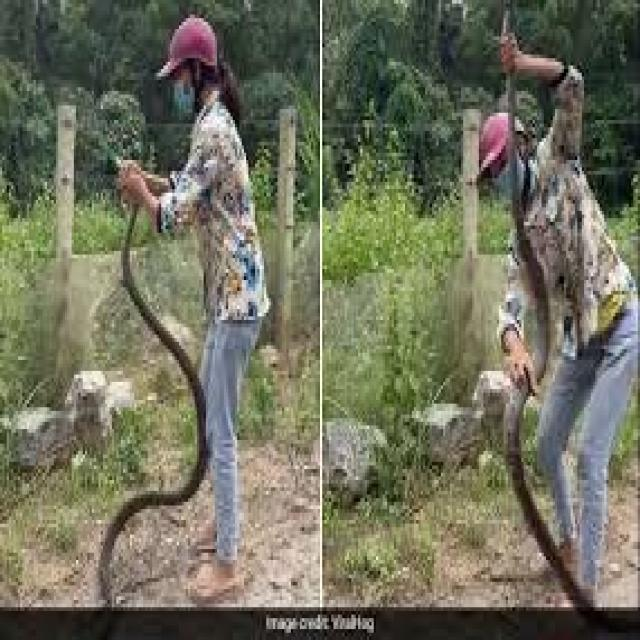Snake: (496, 6, 593, 610), (97, 196, 207, 605)
